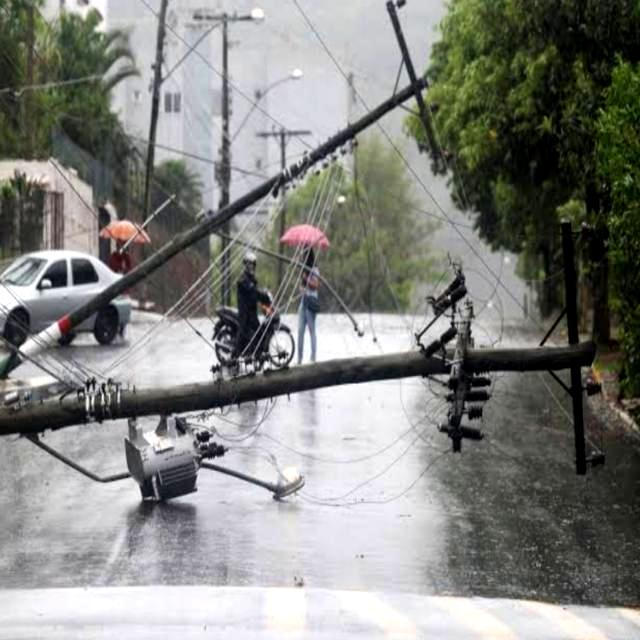Broken Pole: (1, 207, 613, 509), (2, 6, 459, 378), (223, 227, 371, 343)
